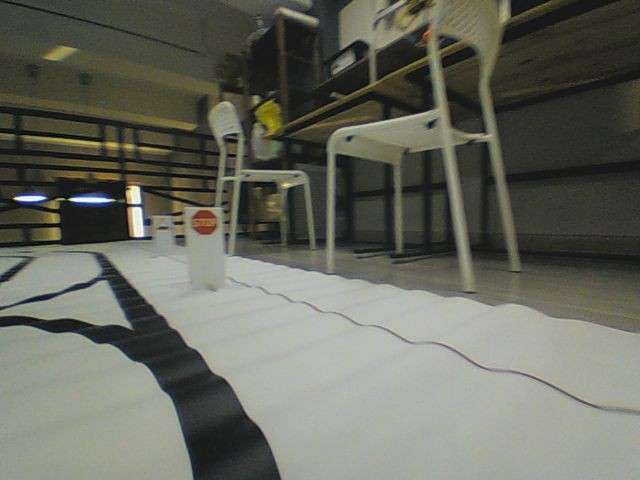Stop: (190, 208, 218, 236)
